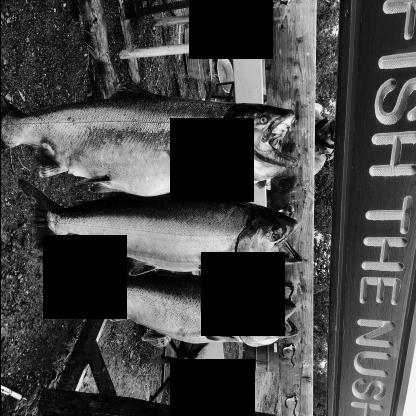fish: (1, 89, 299, 200), (17, 174, 302, 276), (42, 258, 298, 346)
